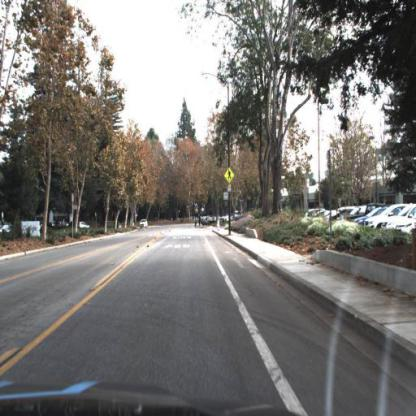car: (74, 217, 92, 235), (139, 218, 150, 230)
